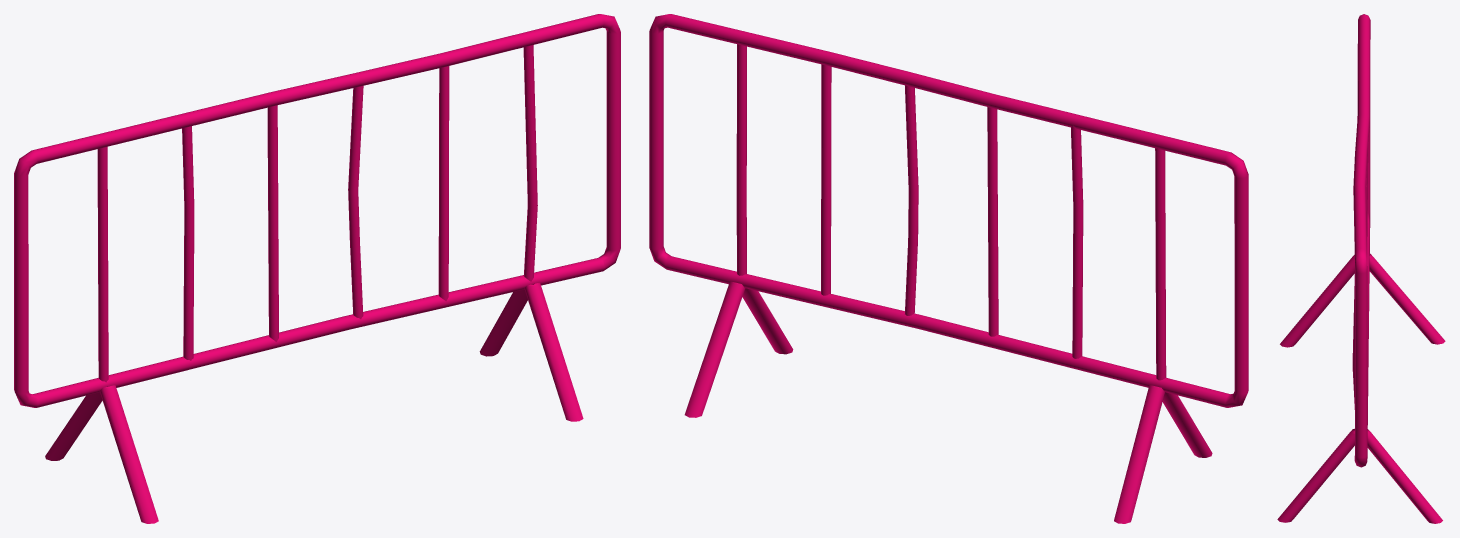
Rendered from Security_Fence_01_lod0.fbx.
3 views of the same model, side by side, from view 1: azimuth 30°, elevation 25°; view 2: azimuth 150°, elevation 25°; view 3: azimuth 270°, elevation 25° (orthographic). The views are drawn at different scales.
Parts seen in each view (by area): view 1: Security_Fence_01_lod0; view 2: Security_Fence_01_lod0; view 3: Security_Fence_01_lod0.
Part boxes in pixels (bbox=[...]): Security_Fence_01_lod0: bbox=[14, 14, 620, 523]; Security_Fence_01_lod0: bbox=[649, 14, 1248, 523]; Security_Fence_01_lod0: bbox=[1277, 14, 1445, 523].
Bounding box in the file's own units: 212 × 119 × 60.2.
